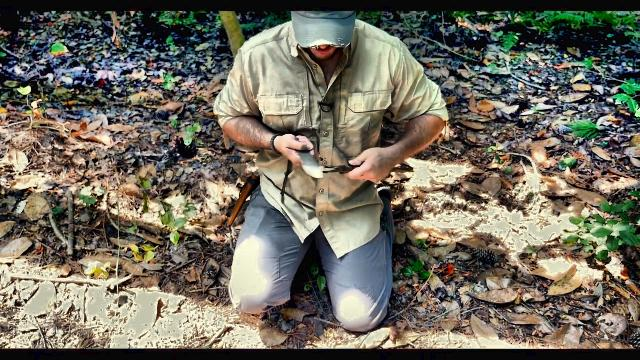knife: (278, 130, 330, 185)
